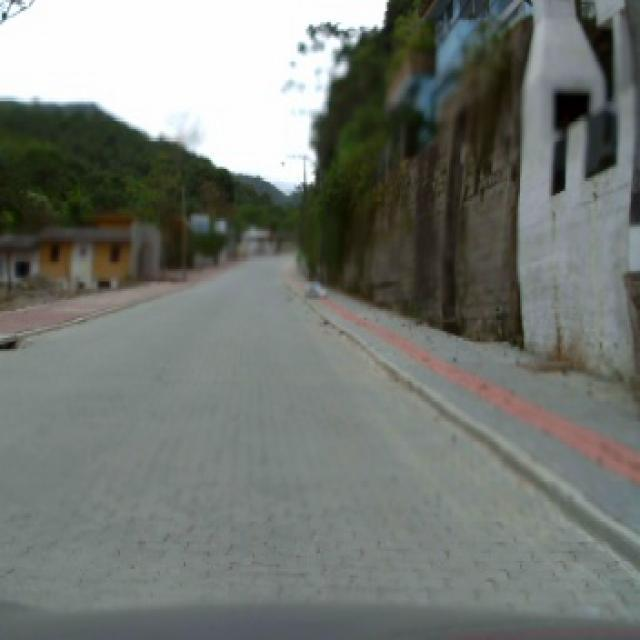Poth-hole: (0, 336, 18, 348)
